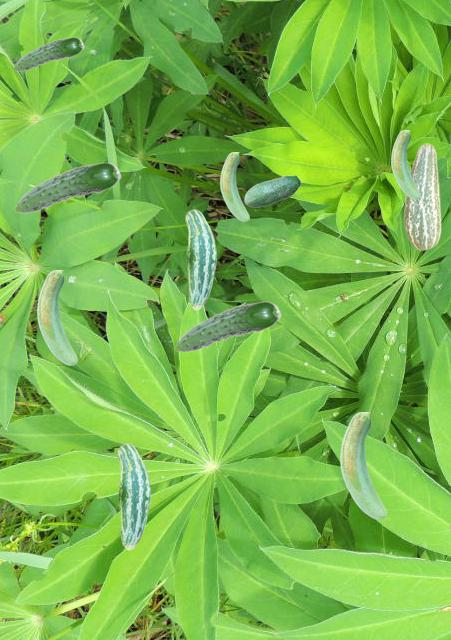cucumber: (174, 301, 280, 351), (14, 162, 120, 212), (340, 412, 385, 518), (404, 143, 440, 249), (37, 270, 76, 364), (117, 443, 149, 549), (185, 209, 215, 309), (13, 37, 83, 70), (220, 152, 248, 220), (391, 130, 419, 198), (244, 175, 300, 206)
